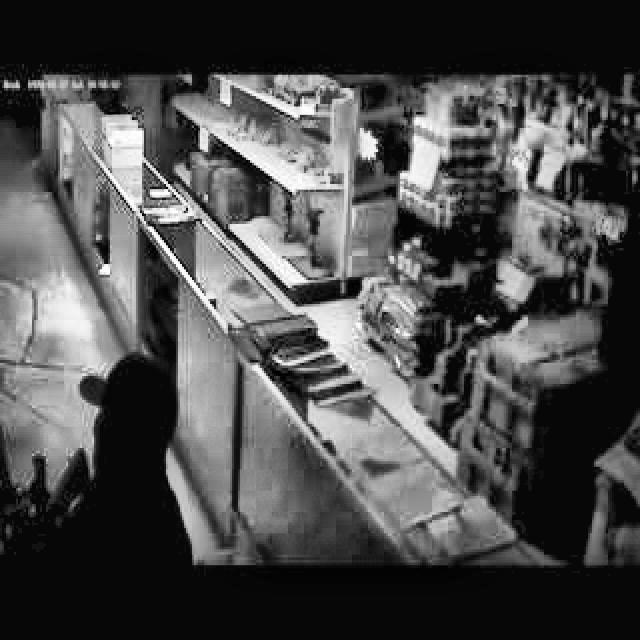burglary: (1, 343, 204, 564)
